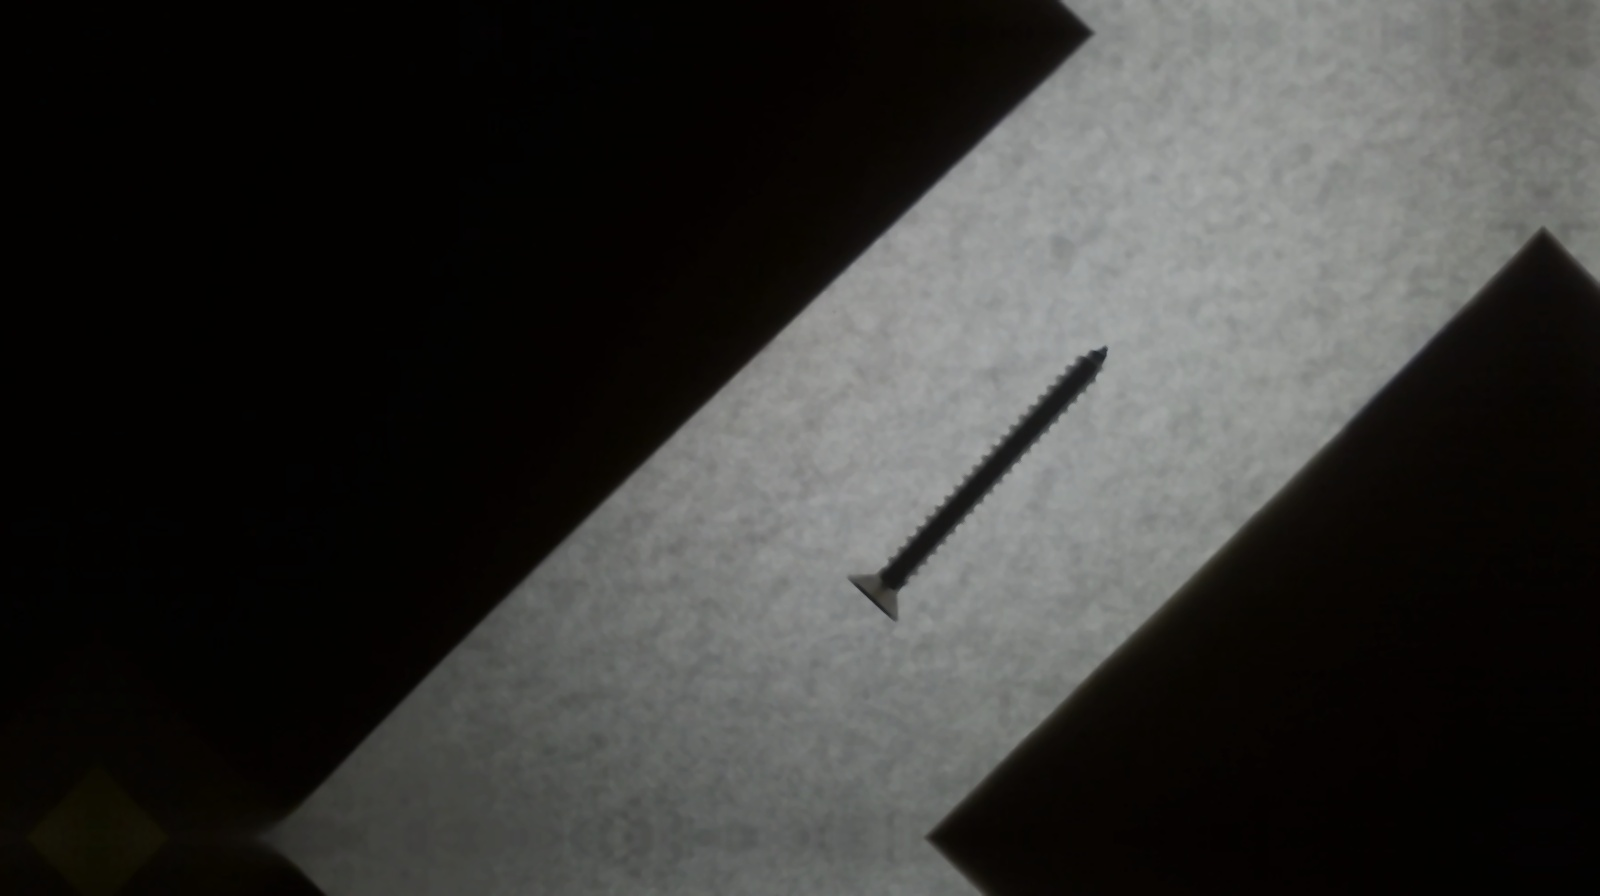S002: (842, 332, 1116, 637)
